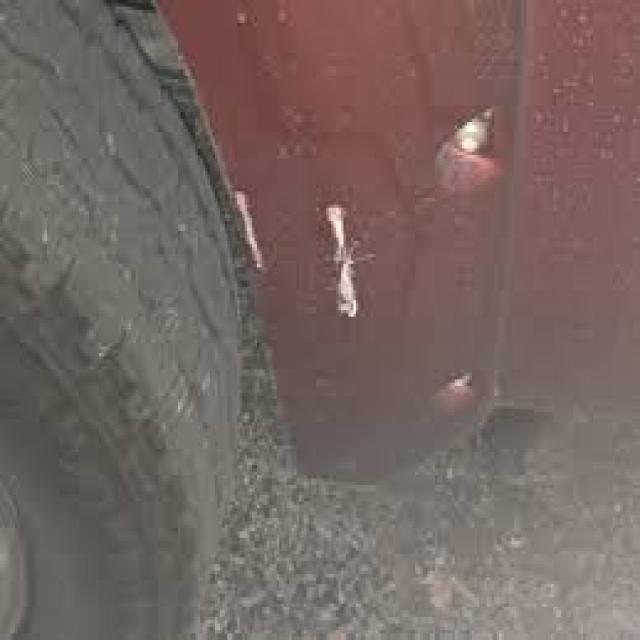dent-or-scratch: (431, 108, 502, 200), (226, 165, 274, 280), (322, 204, 364, 330), (442, 367, 478, 410)
